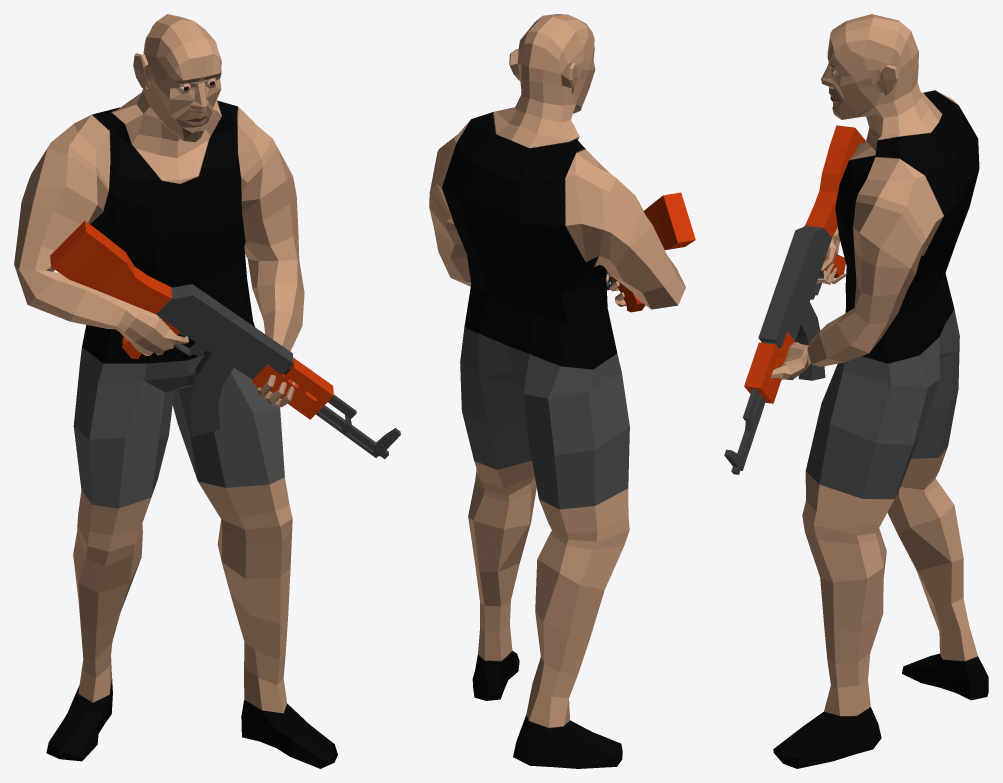
File: PlayerIdle(219).obj
3 renders of one model, left to right at view 1: azimuth 30°, elevation 25°; view 2: azimuth 150°, elevation 25°; view 3: azimuth 270°, elevation 25°, orthographic. The views are drawn at different scales.
Visible parts, largest first — view 1: Plane002, Object001; view 2: Plane002, Object001; view 3: Plane002, Object001.
Part boxes in pixels (left/top/right/bottom): Plane002: left=14, top=14, right=337, bottom=768; Object001: left=50, top=221, right=400, bottom=458; Plane002: left=429, top=14, right=685, bottom=768; Object001: left=606, top=192, right=695, bottom=312; Plane002: left=770, top=14, right=988, bottom=768; Object001: left=724, top=125, right=865, bottom=474.
Bounding box in the file's own units: 745 × 1801 × 619.
